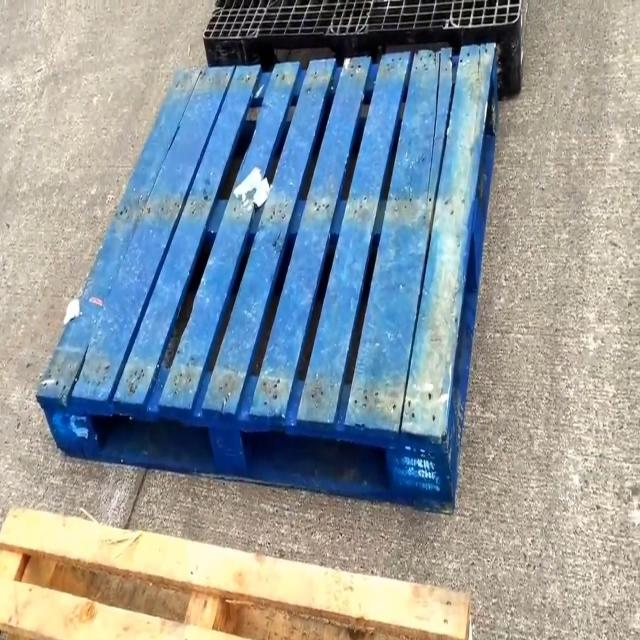Palette: (32, 42, 524, 505), (0, 496, 480, 640), (201, 2, 531, 104)
